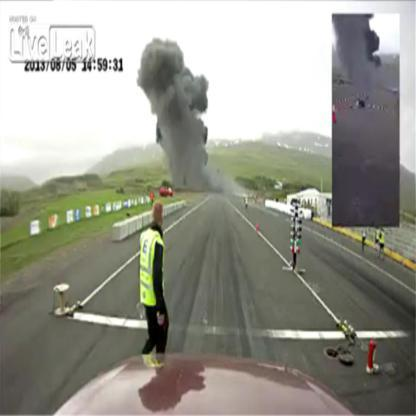smoke: (149, 86, 211, 148), (336, 14, 386, 80), (134, 31, 184, 87), (168, 148, 216, 191), (184, 68, 209, 88)
